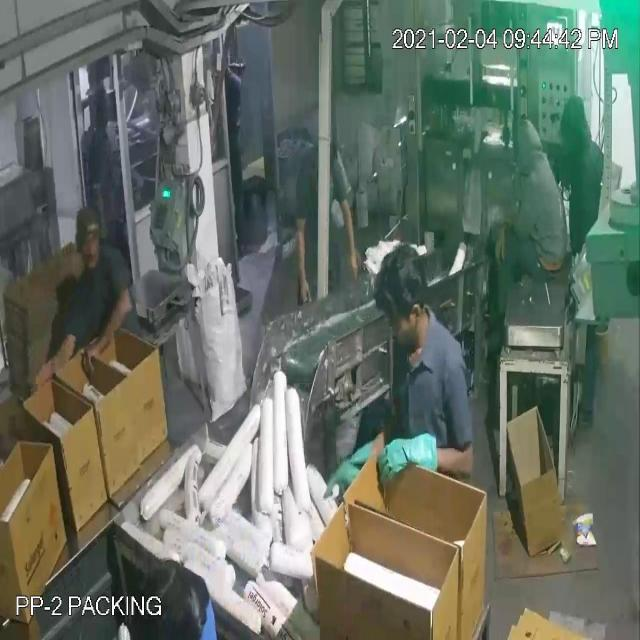No_Gloves: (24, 66, 413, 473)
